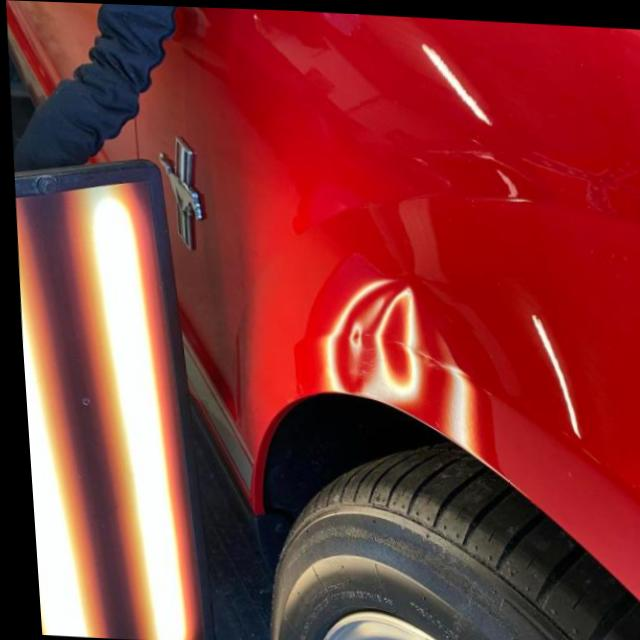PDR-Dent: (321, 279, 439, 408)
